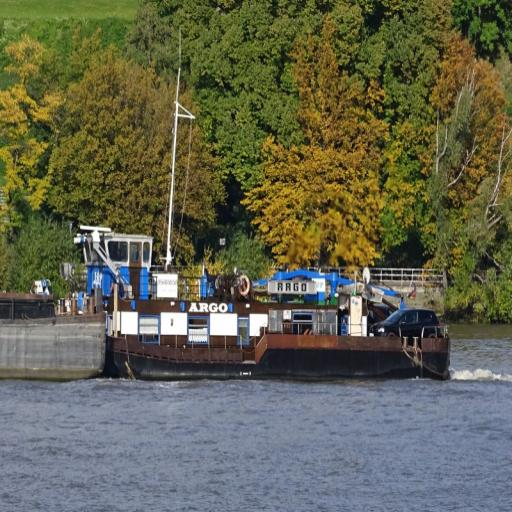tugboat: (52, 217, 460, 393)
